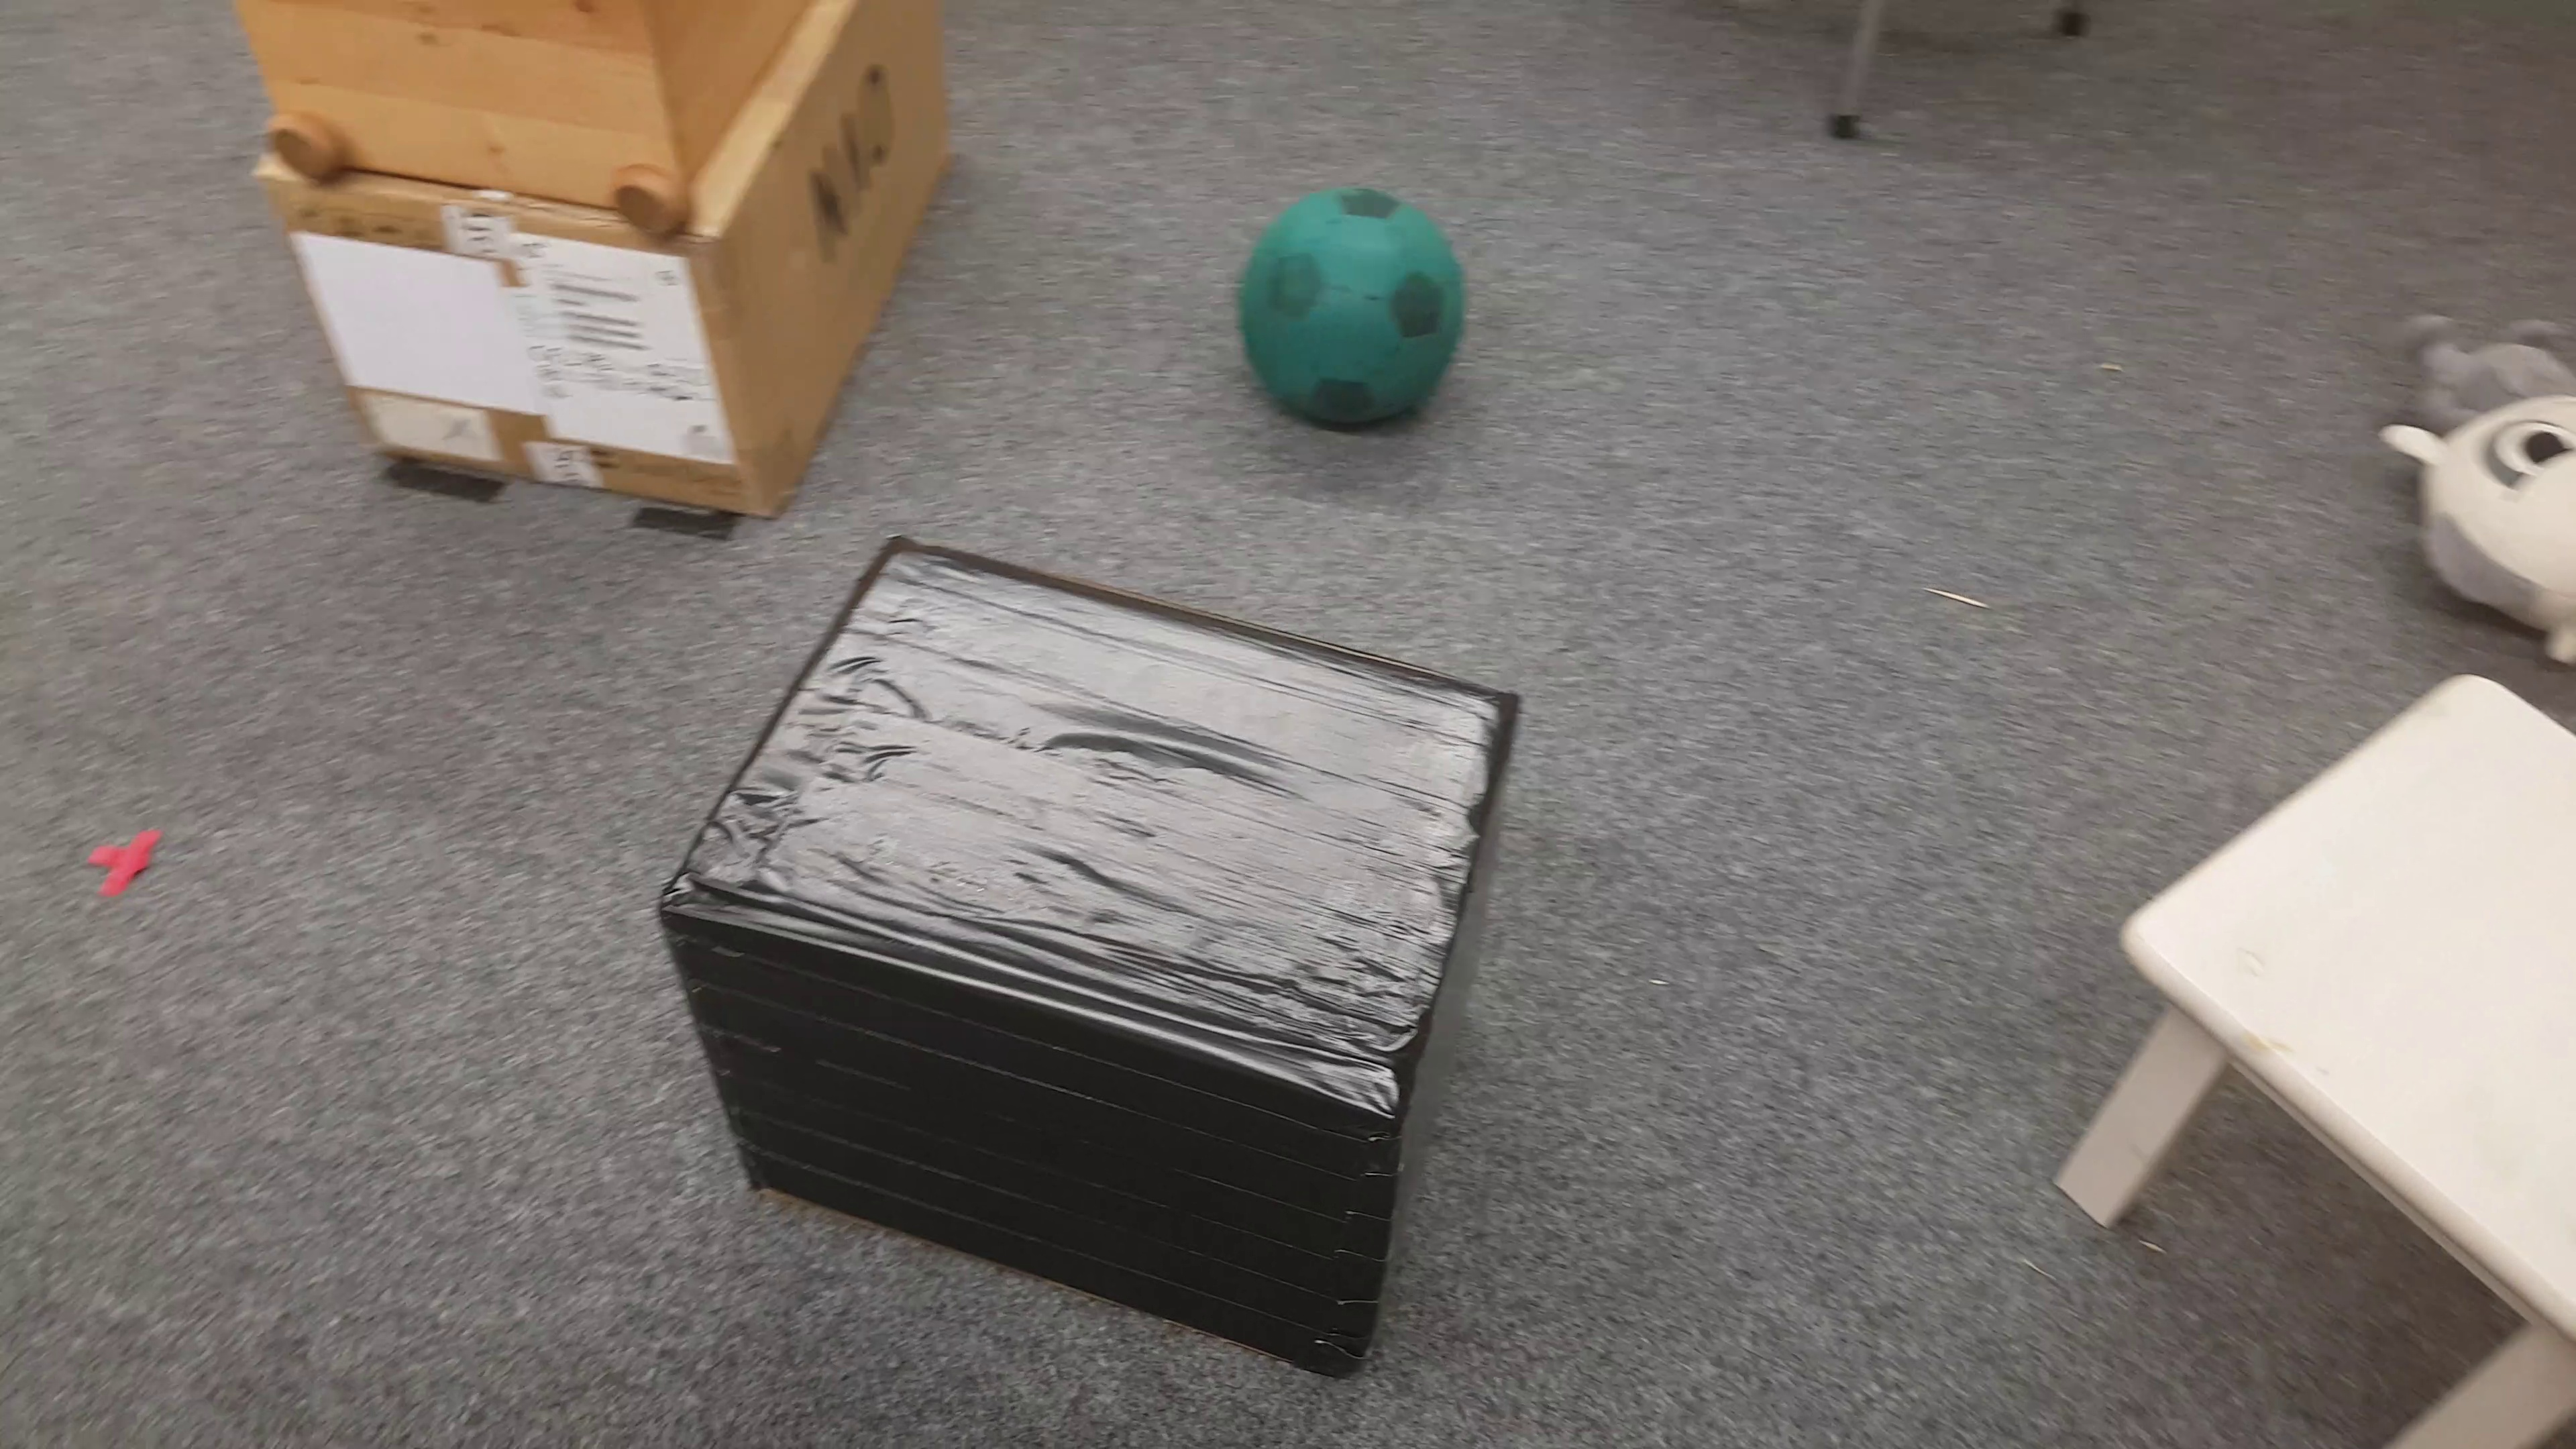grasp: (2374, 313, 2576, 663)
kick: (1240, 177, 1479, 432)
push: (655, 533, 1522, 1387)
